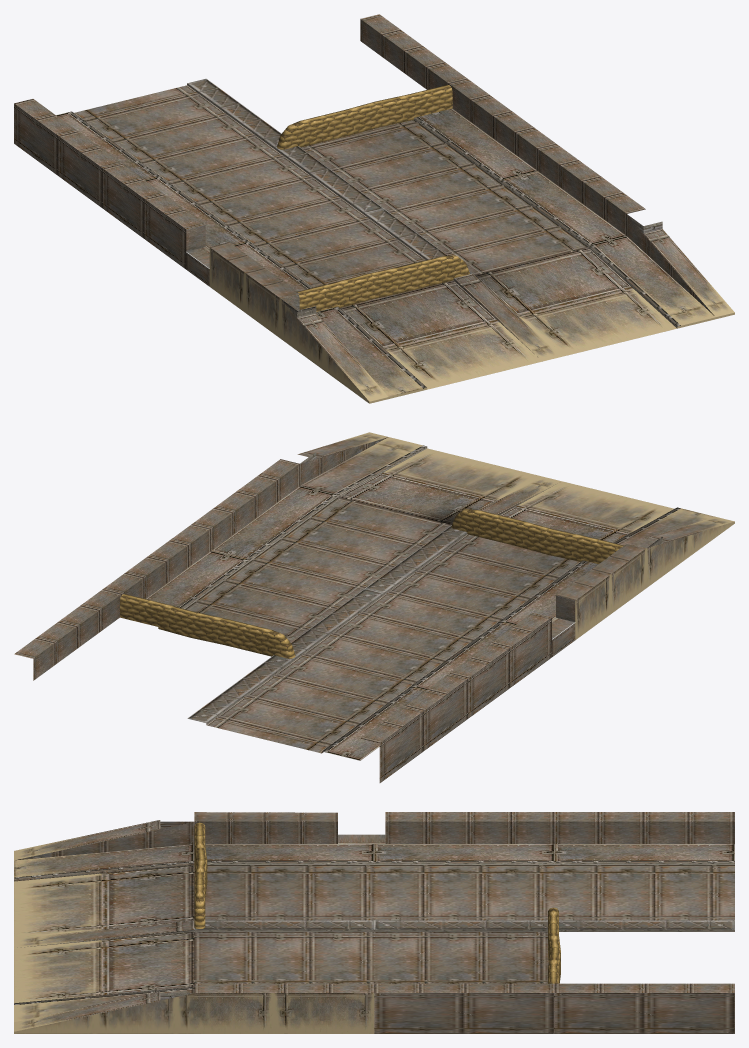
The model's file is MISSION8_LARGEBRIDGE_A.glb.
3 views of the same model, one above another, from view 1: azimuth 30°, elevation 25°; view 2: azimuth 150°, elevation 25°; view 3: azimuth 270°, elevation 25° (orthographic).
Parts seen in each view (by area): view 1: MISSION8_LARGEBRIDGE_A; view 2: MISSION8_LARGEBRIDGE_A; view 3: MISSION8_LARGEBRIDGE_A.
Part boxes in pixels (bbox=[...]): MISSION8_LARGEBRIDGE_A: bbox=[14, 14, 734, 403]; MISSION8_LARGEBRIDGE_A: bbox=[14, 432, 734, 782]; MISSION8_LARGEBRIDGE_A: bbox=[14, 812, 734, 1033].
Bounding box in the file's own units: 19.01 × 2 × 32.
6 materials, 6 textured.
